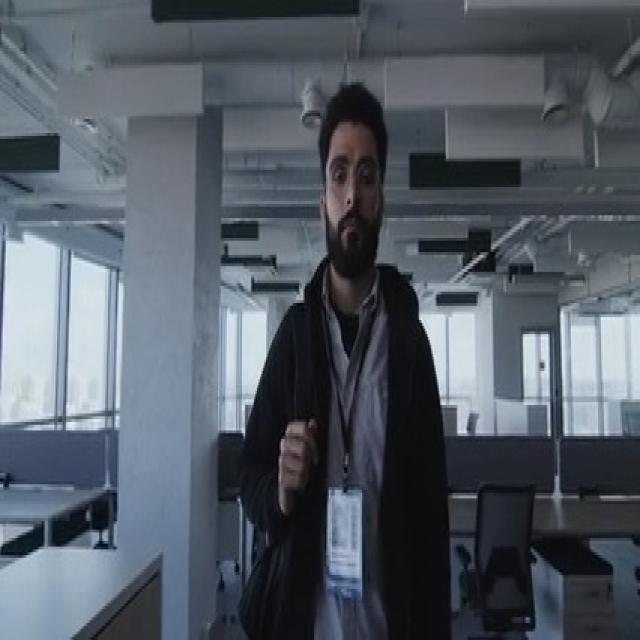Jacket_Wearer: (233, 244, 450, 632)
Person: (230, 76, 448, 640)
